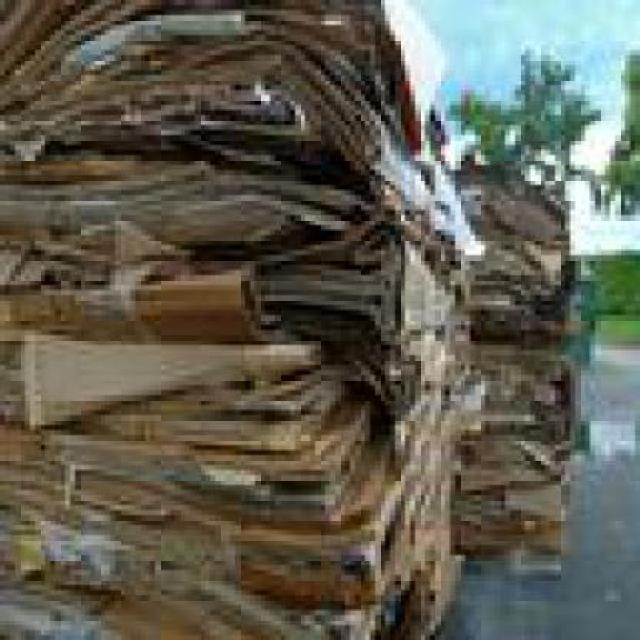CARDBOARD: (4, 0, 480, 635), (4, 30, 476, 225), (6, 420, 466, 600), (5, 0, 454, 135), (460, 176, 585, 544), (6, 360, 386, 475), (4, 546, 476, 634), (4, 335, 324, 420), (5, 170, 360, 235), (260, 226, 465, 326), (5, 275, 260, 340), (460, 440, 575, 545), (460, 334, 580, 434), (464, 180, 576, 240), (564, 254, 604, 354)
